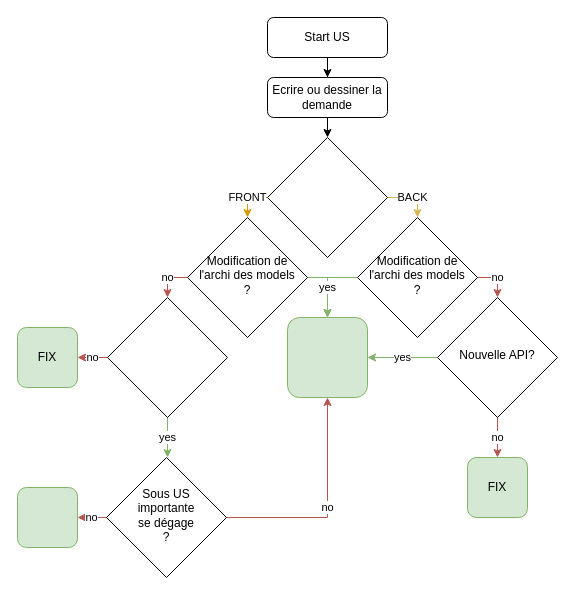
The diagram is 575 pixels wide and 595 high, and some of its shapes have lost their labels. The centre of each missing label's shape, as x and y in pixels:
"Besoin ou modification de donnée ?" belongs at (x=327, y=197).
"Création d'une US" belongs at (x=47, y=517).
"Découpage de l'US possible ?" belongs at (x=167, y=357).
"EVO" belongs at (x=327, y=357).
